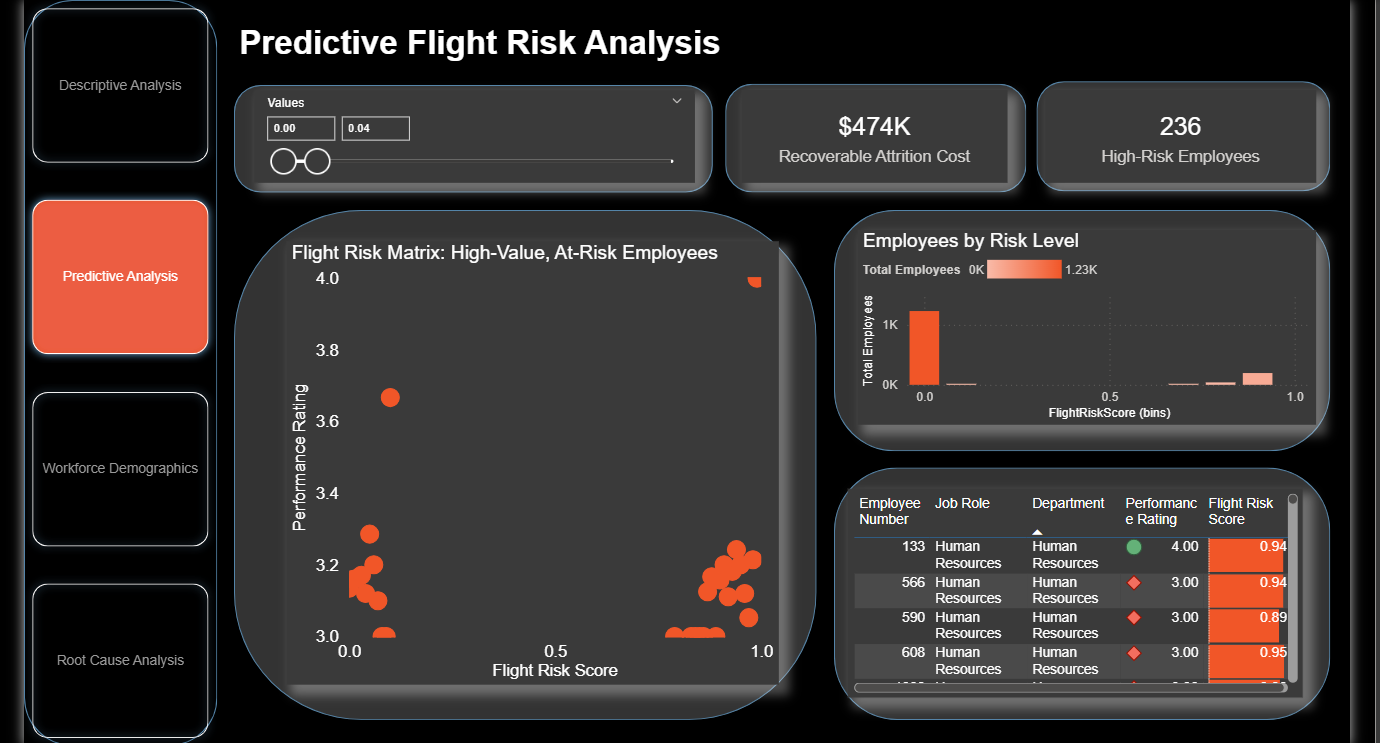

The page's visual inventory and layout, read from the dashboard file:
{"tool":"powerbi","page":{"name":"Predictive Analysis","canvas":[1280,720],"ordinal":1},"visuals":[{"type":"shape","box":[682.7,104,282.7,105.3],"z":0},{"type":"shape","box":[837.3,238.9,421,194.2],"z":1000},{"type":"shape","box":[837.3,460.9,417.4,222],"z":2000},{"type":"shape","box":[986.7,105.3,272,105.3],"z":3000},{"type":"shape","box":[202.7,104,462.7,105.3],"z":4000},{"type":"slicer","fields":{"Values":["Retention Improvement %.Values"]},"box":[228,113.3,425.3,88],"z":5000},{"type":"shape","box":[202.7,238.7,606.7,444],"z":6000},{"type":"scatterChart","title":"Flight Risk Matrix: High-Value, At-Risk Employees","fields":{"X":["hr_project ml_scores.FlightRiskScore"],"Y":["Avg(hr_project employee_data.PerformanceRating)"]},"box":[253.4,271.4,515.2,372.8],"z":7000},{"type":"tableEx","fields":{"Values":["hr_project employee_data.EmployeeNumber","hr_project employee_data.JobRole","hr_project employee_data.Department","Avg(hr_project employee_data.PerformanceRating)","Avg(hr_project ml_scores.FlightRiskScore)"]},"box":[857.8,482.6,383.6,178.6],"z":8000},{"type":"card","title":"Recoverable Attrition Cost","fields":{"Values":["Retention Improvement %.Potential Savings"]},"box":[694.7,113.3,257.3,81.3],"z":9000},{"type":"textbox","box":[202.7,18.7,1052,50.7],"z":10000},{"type":"clusteredColumnChart","title":"Employees by Risk Level","fields":{"Y":["hr_project employee_data.Total Employees"],"Category":["hr_project ml_scores.FlightRiskScore (bins)"]},"box":[851.7,266.6,393.3,139.9],"z":11000},{"type":"card","title":"HIgh-Risk Employees","fields":{"Values":["Count(hr_project employee_data.EmployeeNumber)"]},"box":[1000,113.3,241.3,88],"z":12000},{"type":"shape","box":[0,0,186.7,720],"z":14000},{"type":"pageNavigator","box":[0,0,186.7,720],"z":14500}]}

Visuals, with their boxes on the page's 1280x720 design canvas (x1, y1, x2, y2). These are canvas units, not pixel positions in the 1380x743 screenshot, which may show the page scaled, cropped or inside an application window:
shape: 683 104 965 209
shape: 837 239 1258 433
shape: 837 461 1255 683
shape: 987 105 1259 211
shape: 203 104 665 209
slicer - Retention Improvement %.Values: 228 113 653 201
shape: 203 239 809 683
"Flight Risk Matrix: High-Value, At-Risk Employees" scatterChart: 253 271 769 644
tableEx - hr_project employee_data.EmployeeNumber x hr_project employee_data.JobRole: 858 483 1241 661
"Recoverable Attrition Cost" card: 695 113 952 195
textbox: 203 19 1255 69
"Employees by Risk Level" clusteredColumnChart: 852 267 1245 406
"HIgh-Risk Employees" card: 1000 113 1241 201
shape: 0 0 187 720
pageNavigator: 0 0 187 720
